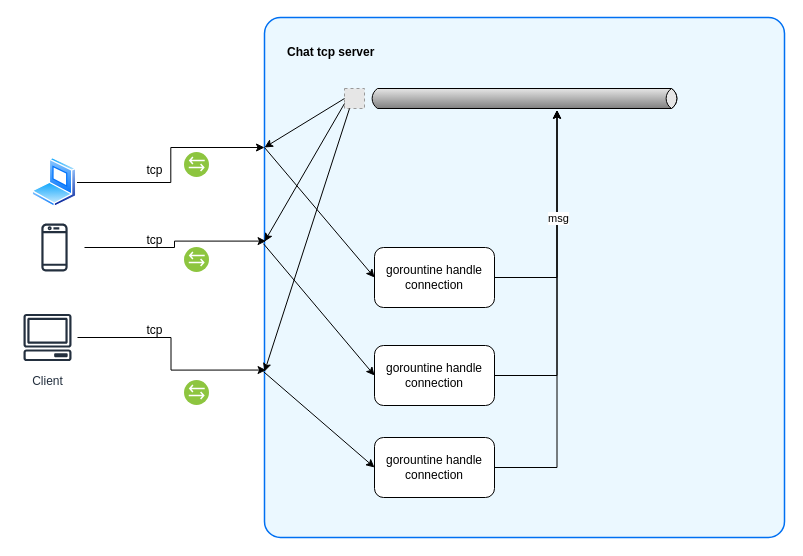
This 803x556 diagram has some shape labels left out. Grey dashed boxes stand in for pictures. The centre of each missing label's shape, as x and y in pixels:
Message broadcast channel: [524,98]
Mobile client: [54,247]
